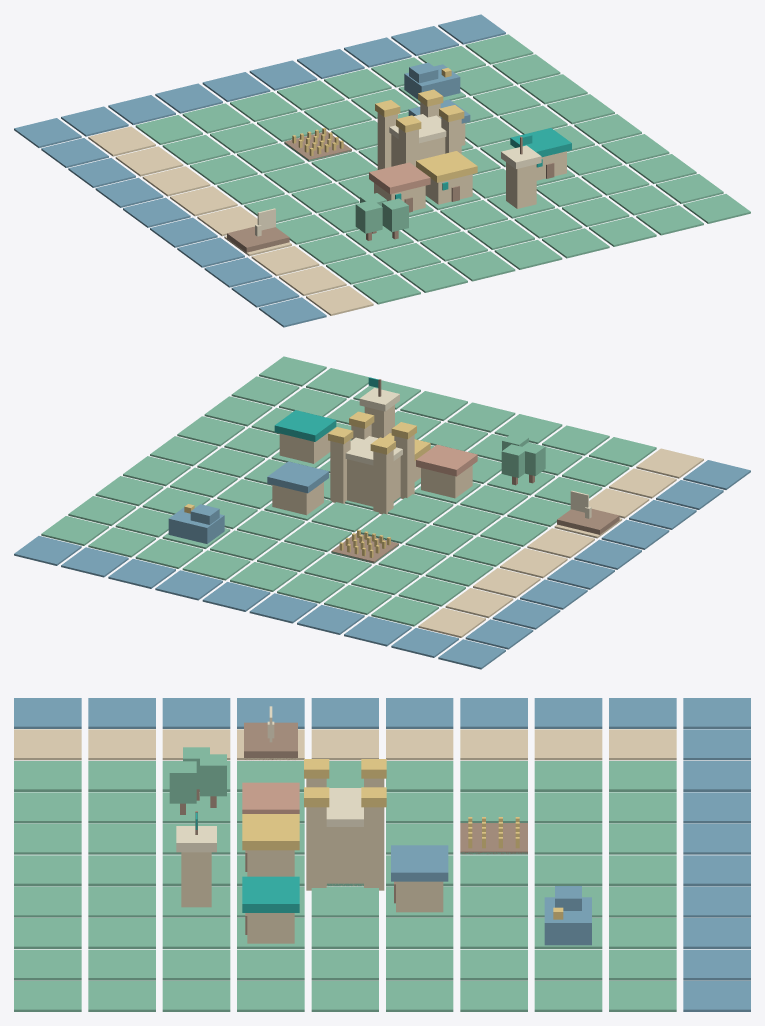
The model's file is world-map.gltf.
3 renders of one model, top to bottom at view 1: azimuth 30°, elevation 25°; view 2: azimuth 150°, elevation 25°; view 3: azimuth 270°, elevation 25°, orthographic. The views are drawn at different scales.
Size of the model in its own units: 21.8 by 3.05 by 21.8.
